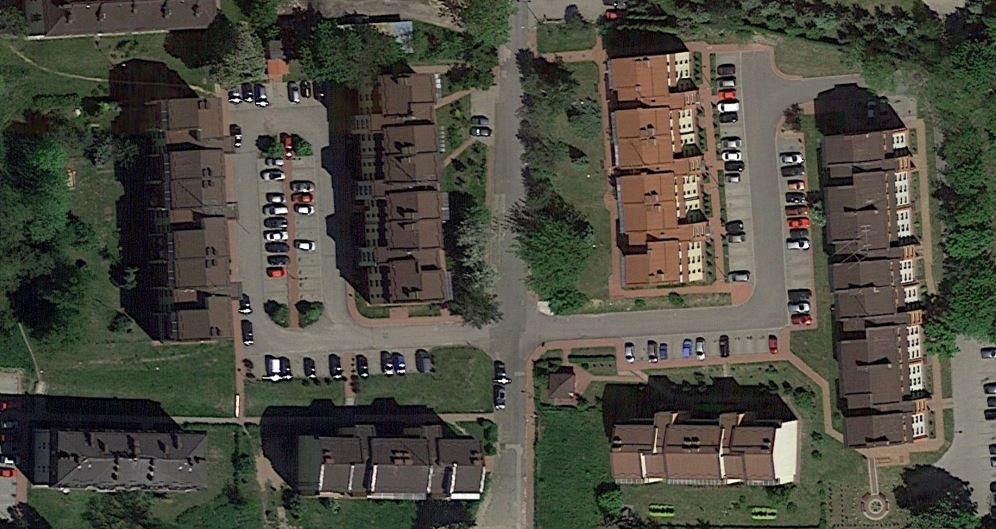block of flats: (817, 122, 931, 452), (603, 47, 711, 296), (348, 65, 457, 309), (142, 94, 240, 348), (289, 420, 493, 507), (607, 406, 803, 493), (26, 423, 214, 495)
